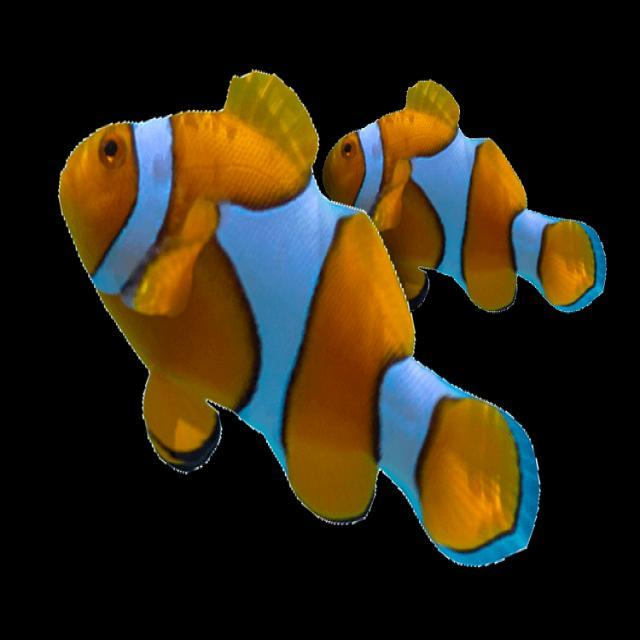ClownFish: (57, 116, 445, 548), (326, 87, 610, 316)
